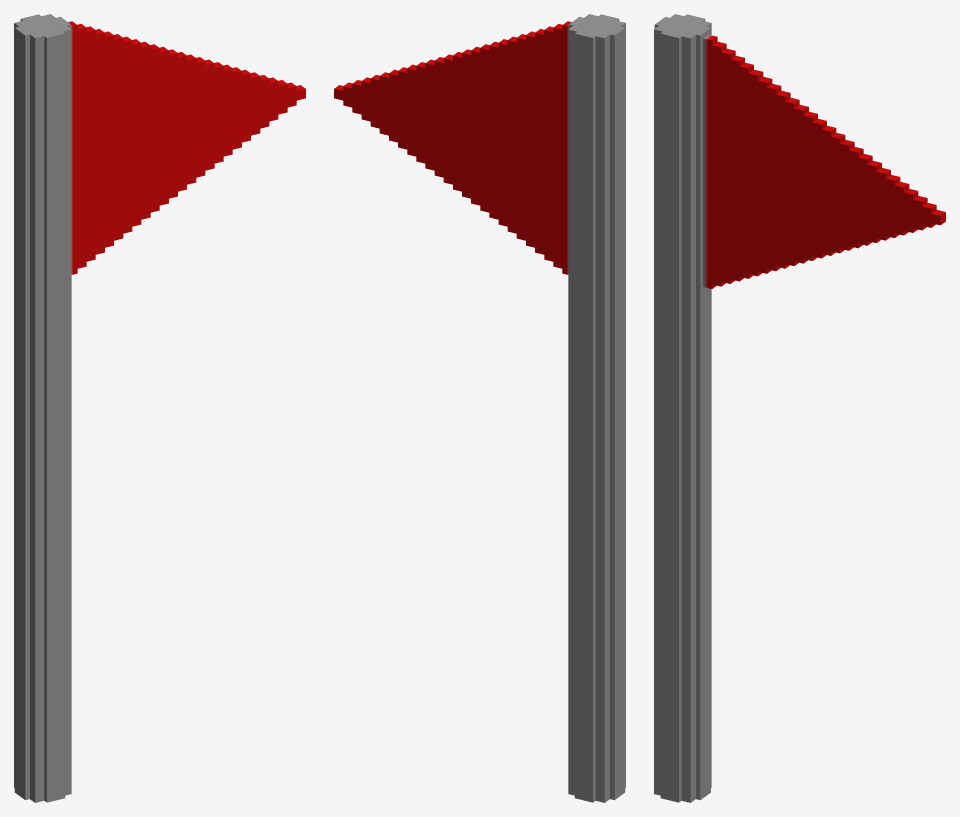
Rendered from Flag.obj.
The picture shows the model from 3 angles, left to right: view 1: azimuth 30°, elevation 25°; view 2: azimuth 150°, elevation 25°; view 3: azimuth 330°, elevation 25°; orthographic projection.
Visible parts, largest first — view 1: Flag; view 2: Flag; view 3: Flag.
Boxes of the visible parts, <box> form: Flag: <box>14,14,305,802</box>; Flag: <box>334,14,625,802</box>; Flag: <box>654,14,945,802</box>.
Size of the model in its own units: 6.2 by 16 by 1.
